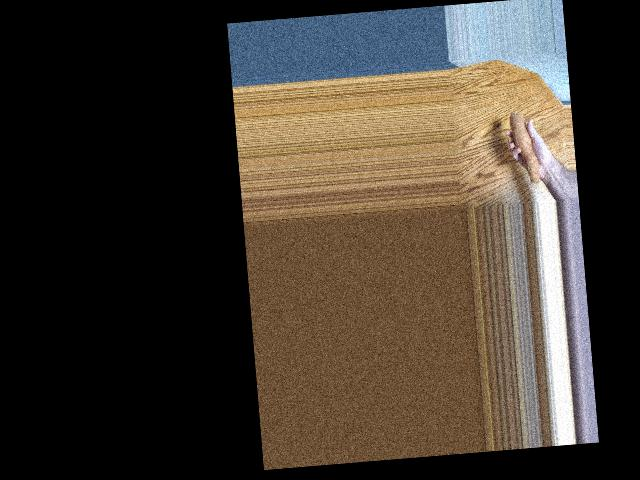sweet_potato: (508, 109, 541, 183)
